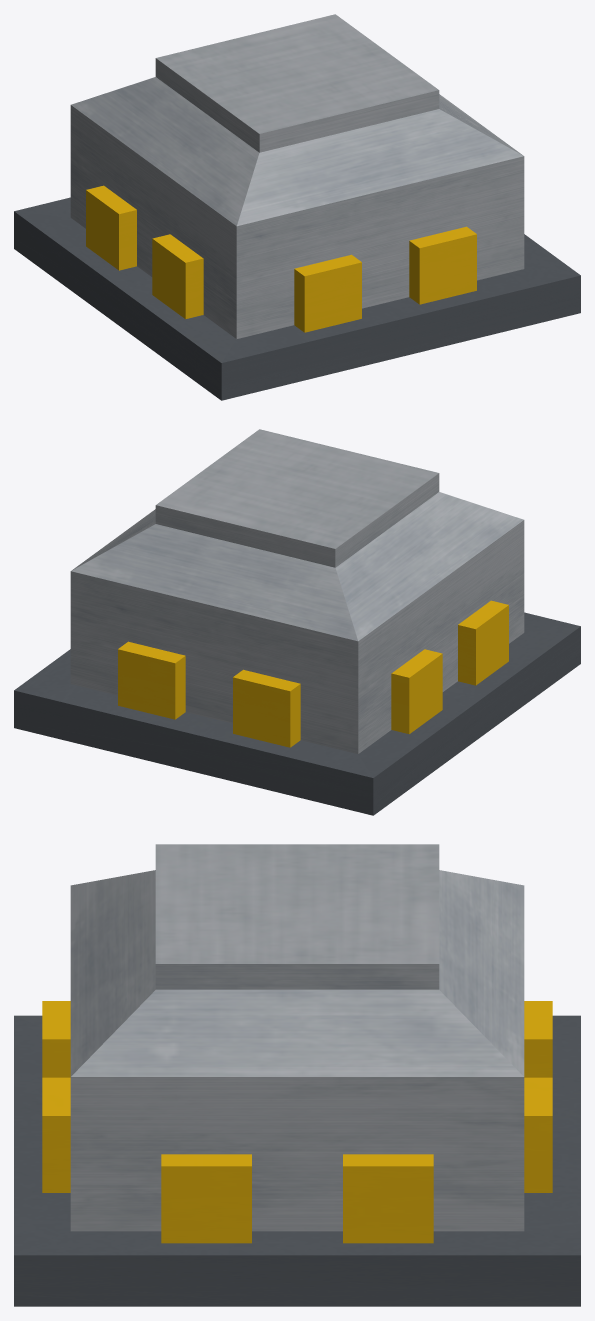
Rendered from motherboard_node.fbx.
3 renders of one model, top to bottom at view 1: azimuth 30°, elevation 25°; view 2: azimuth 150°, elevation 25°; view 3: azimuth 270°, elevation 25°, orthographic. The views are drawn at different scales.
Parts seen in each view (by area): view 1: Cube; view 2: Cube; view 3: Cube.
Part boxes in pixels (x1,y1,x2,y2): Cube: (14,14,580,400); Cube: (14,429,580,815); Cube: (14,844,580,1306).
Size of the model in its own units: 200 by 110 by 200.
Materials: 1 (1 with a texture image).
